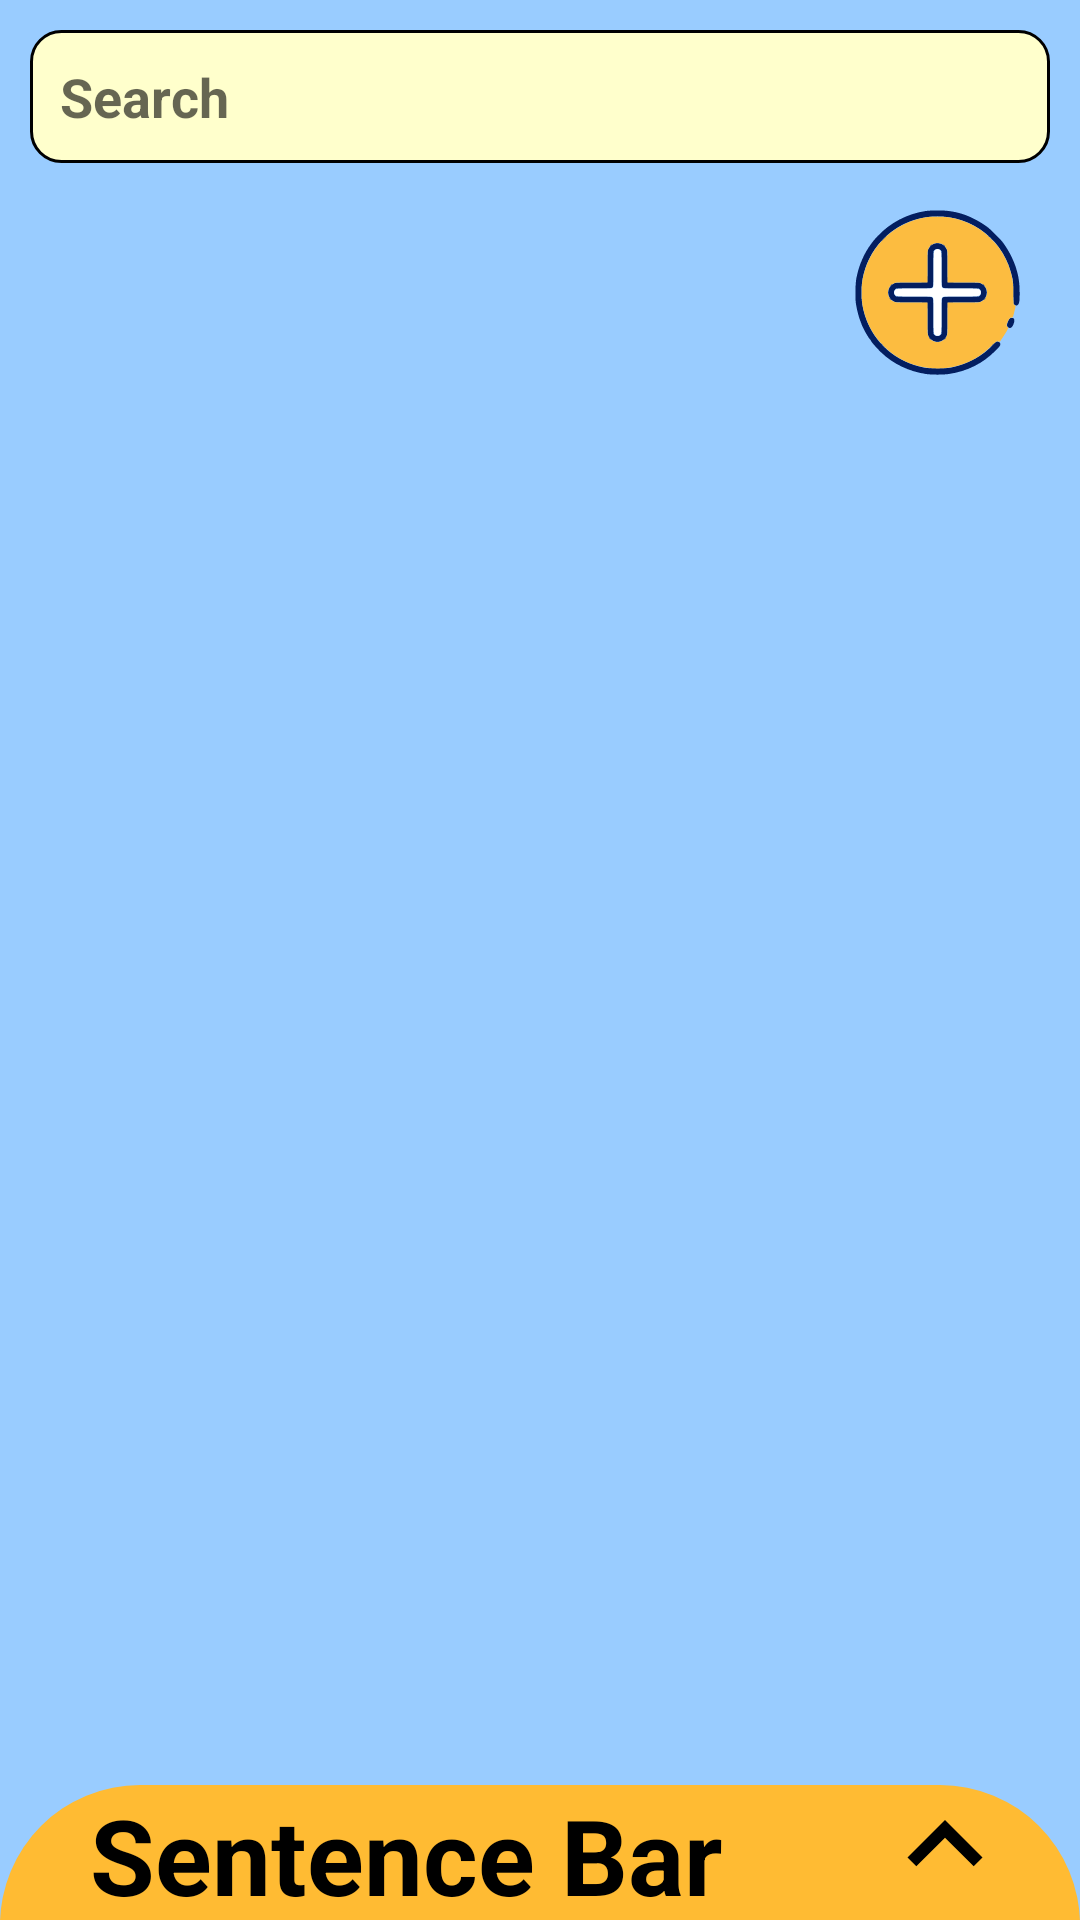

Named icons in this screenshot (1080x1920) and their bounding boxes, bbox(x1, y1, x2, y2):
add: bbox(855, 210, 1020, 375)
keyboard arrow up: bbox(907, 1820, 983, 1866)
